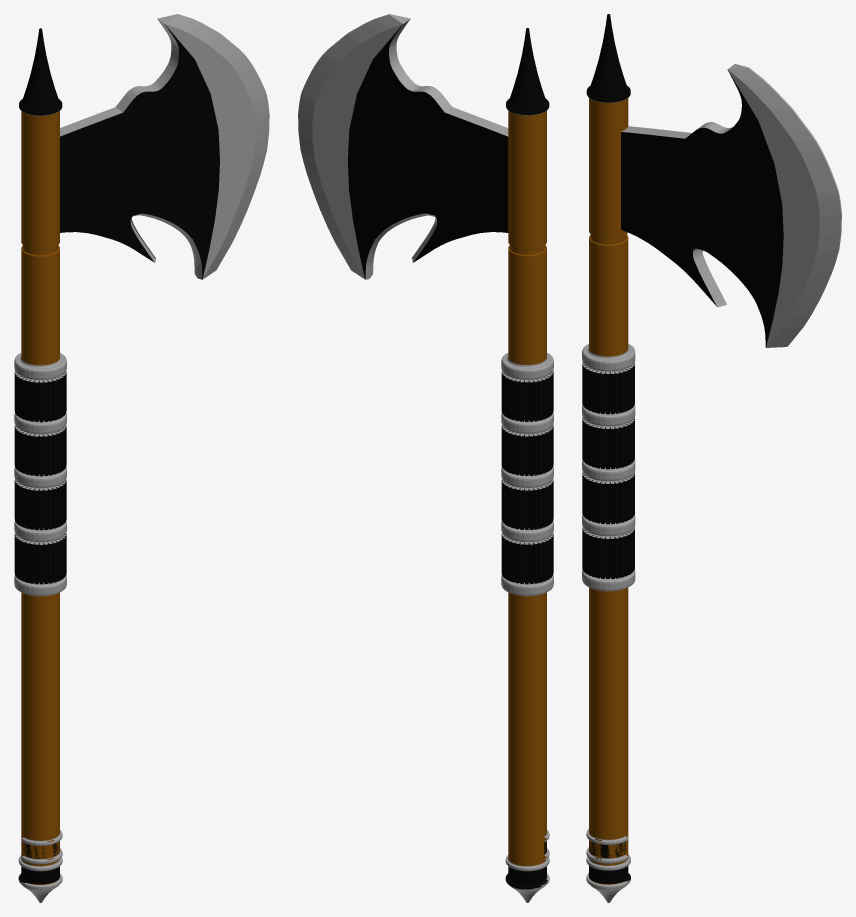
Rendered from ASSETS.fbx_simpleAxe.fbx.
3 renders of one model, left to right at view 1: azimuth 30°, elevation 25°; view 2: azimuth 150°, elevation 25°; view 3: azimuth 330°, elevation 25°, orthographic.
Parts seen in each view (by area): view 1: hache; view 2: hache; view 3: hache.
Part boxes in pixels (x1=…): hache: x1=14, y1=14, x2=269, y2=902; hache: x1=298, y1=14, x2=553, y2=902; hache: x1=582, y1=14, x2=841, y2=902.
Bounding box in the file's own units: 16.71 × 55.43 × 3.03.
